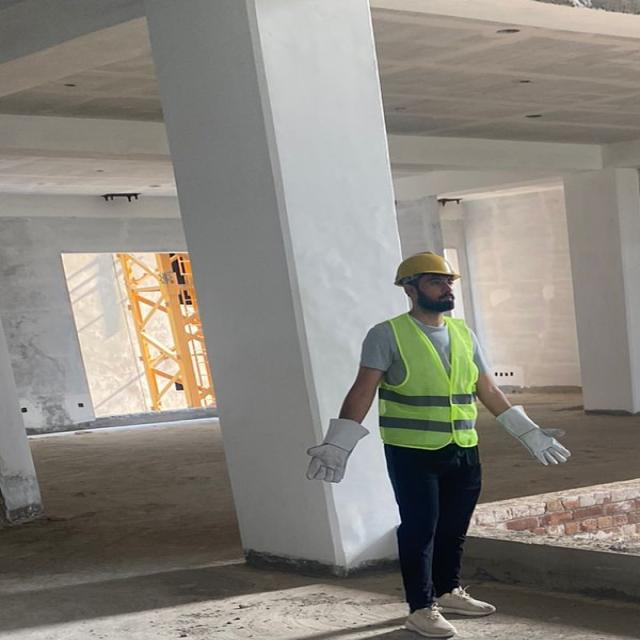Boot: (431, 582, 499, 616), (402, 602, 462, 640)
Glove: (494, 404, 577, 467), (302, 416, 369, 484)
Helmet: (394, 248, 462, 292)
Vest: (376, 310, 486, 451)
